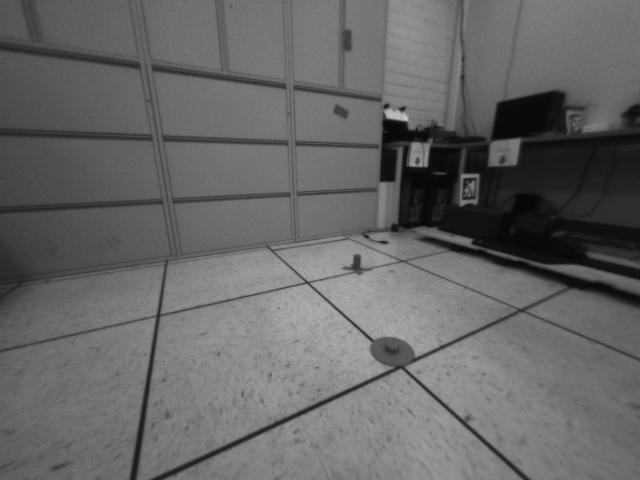X: (343, 253, 373, 276)
